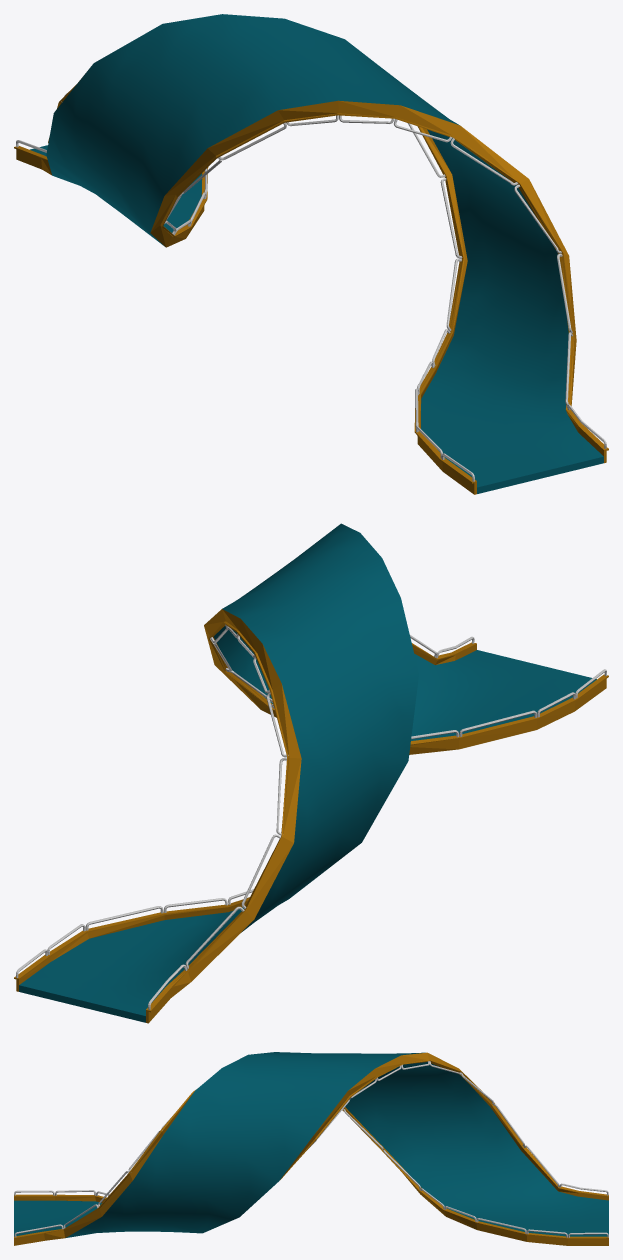
Rendered from corkscrewSmooth.FBX.
3 renders of one model, top to bottom at view 1: azimuth 30°, elevation 25°; view 2: azimuth 150°, elevation 25°; view 3: azimuth 270°, elevation 25°, orthographic. The views are drawn at different scales.
Visible parts, largest first — view 1: corkscrew_s, wall_l, wall_r; view 2: corkscrew_s, wall_r, wall_l; view 3: corkscrew_s, wall_l, wall_r.
Part boxes in pixels (box(x1,y1,x2,y2)): corkscrew_s: box(30, 14, 603, 493); wall_l: box(150, 100, 608, 463); wall_r: box(14, 73, 476, 494); corkscrew_s: box(19, 523, 596, 1022); wall_r: box(146, 609, 608, 1023); wall_l: box(14, 634, 476, 991); corkscrew_s: box(14, 1052, 608, 1237); wall_l: box(14, 1090, 608, 1245); wall_r: box(14, 1052, 608, 1202).
Size of what is drawn, in the model's own units: 369 by 1200 by 363.
